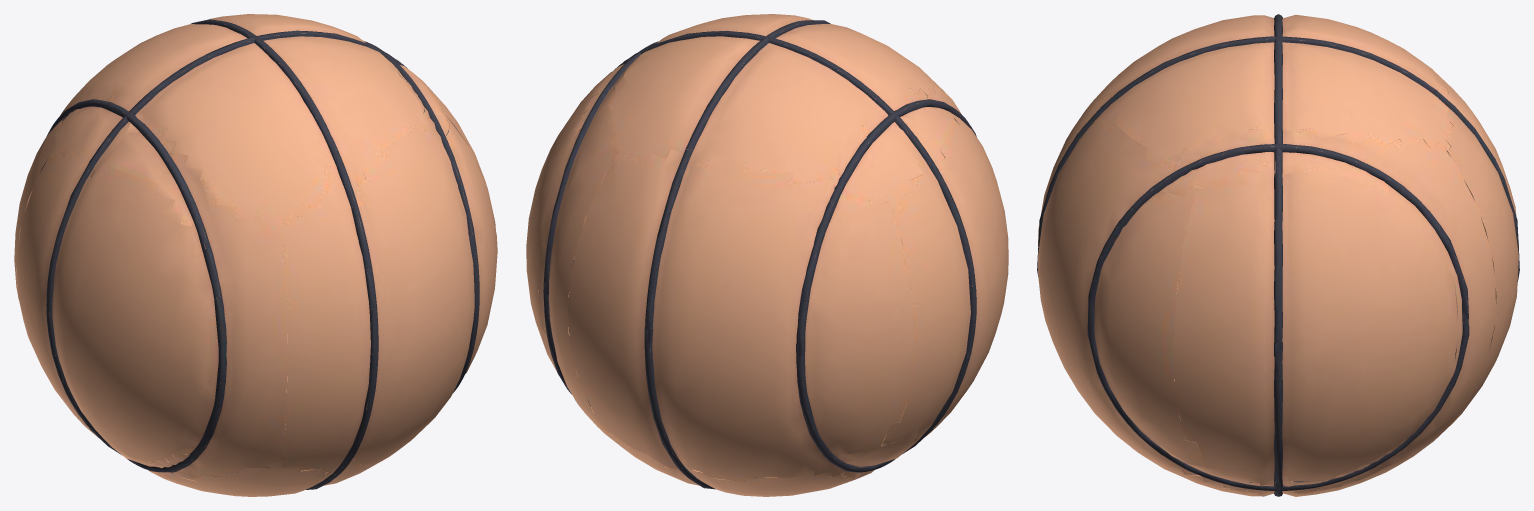
File: baloncesto.glb
3 renders of one model, left to right at view 1: azimuth 30°, elevation 25°; view 2: azimuth 150°, elevation 25°; view 3: azimuth 270°, elevation 25°, orthographic.
Parts seen in each view (by area): view 1: basketball_body; view 2: basketball_body; view 3: basketball_body.
Part boxes in pixels (bbox=[...]): basketball_body: bbox=[14, 14, 497, 496]; basketball_body: bbox=[526, 14, 1008, 496]; basketball_body: bbox=[1037, 14, 1519, 496].
Size of the model in its own units: 0.2416 by 0.242 by 0.2416.
1 material, 1 textured.
